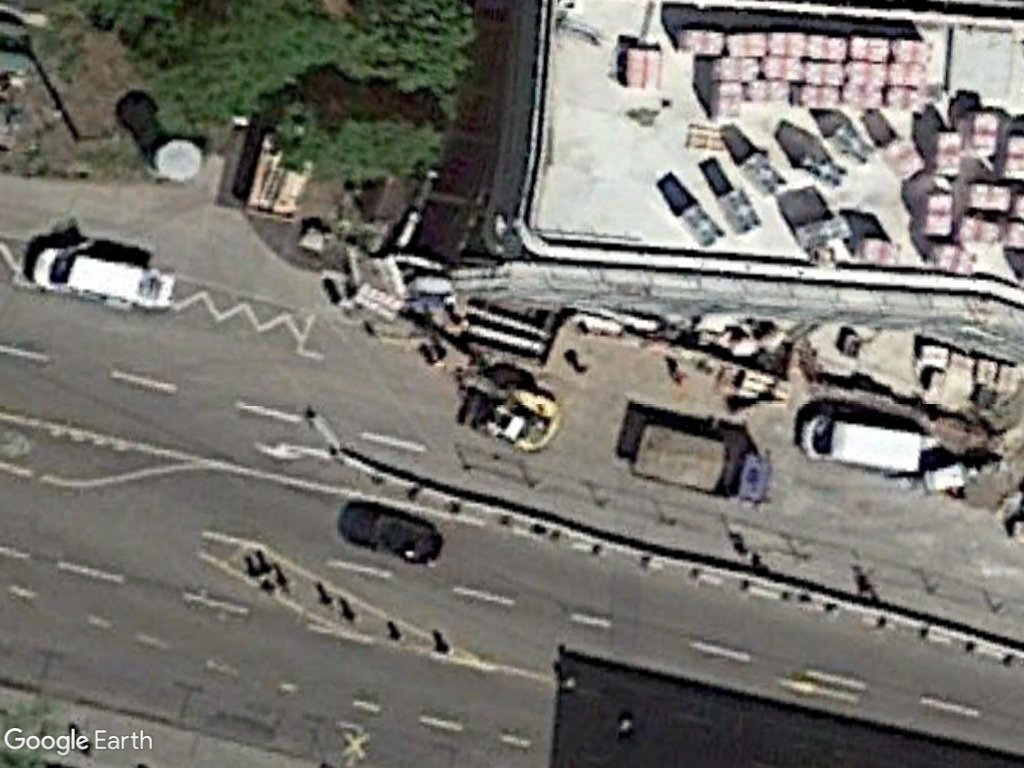other: (624, 417, 773, 512)
van: (791, 410, 927, 478), (30, 240, 145, 309)
